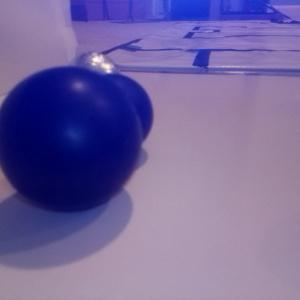alive_ball: (66, 50, 122, 106)
dead_ball: (1, 65, 142, 211), (83, 72, 153, 152)
